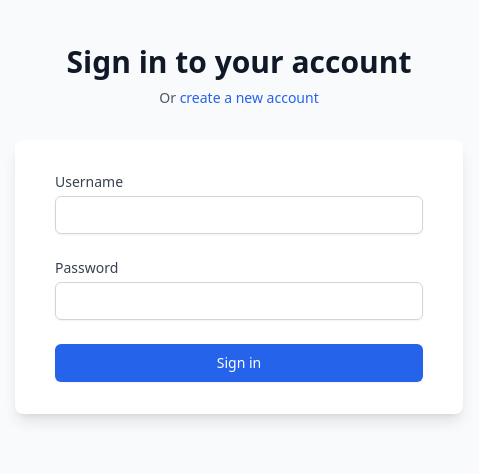
LoginPage › should handle login errors
Type "wronguser" into the field labelled "Username" at point(239, 215), box [55,196,423,234]
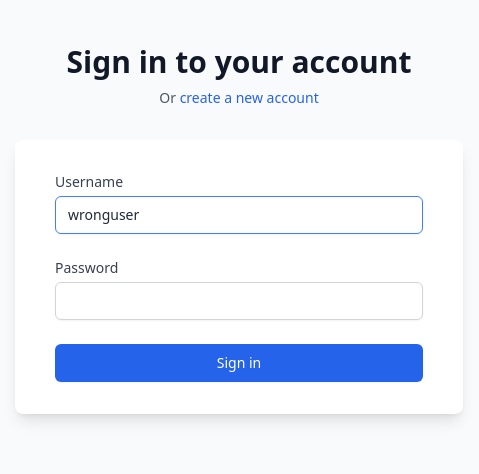
Type "wrongpass" into the password field labelled "Password" at point(239, 301), box [55,282,423,320]
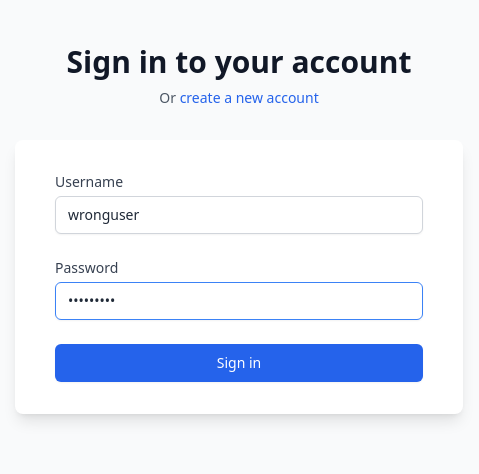
Click the button "Sign in" at point(239, 363), box [55,344,423,382]
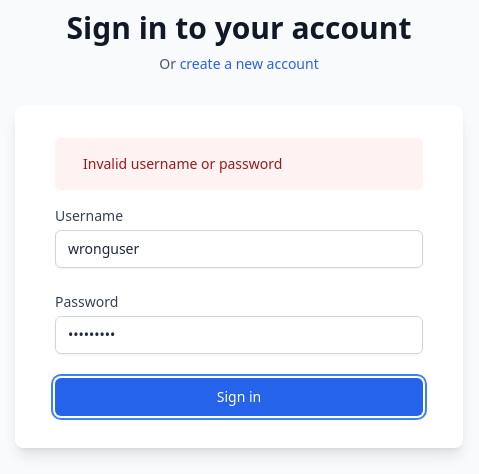
Expected: the text "Invalid username or password" is shown, [83,154,282,174]
